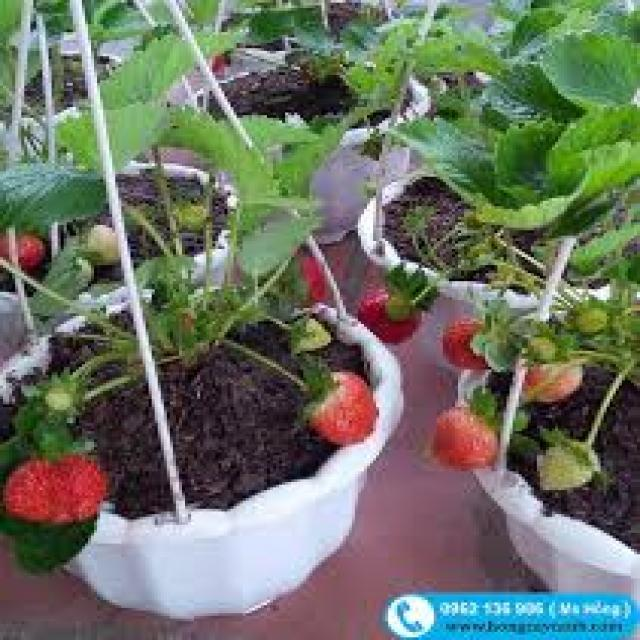Fruta sana: (8, 452, 113, 526), (293, 364, 386, 444), (420, 404, 496, 472), (358, 282, 423, 354), (265, 248, 342, 305), (442, 318, 496, 377), (6, 220, 49, 272)
